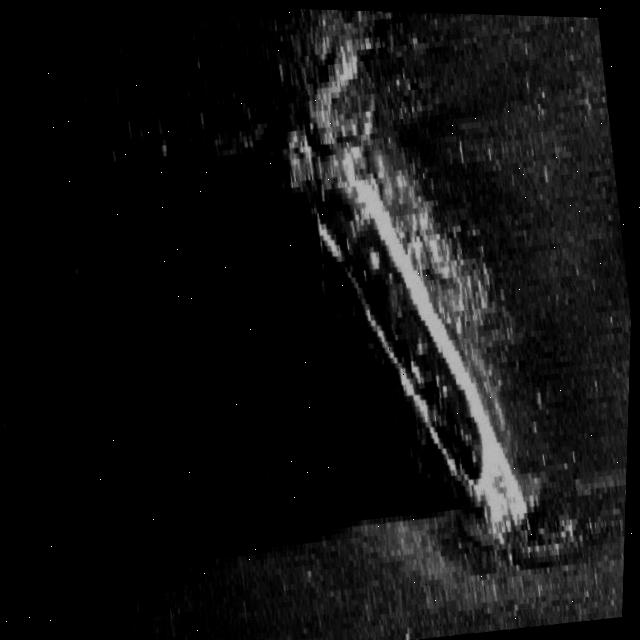shipwreck: (300, 124, 541, 564)
